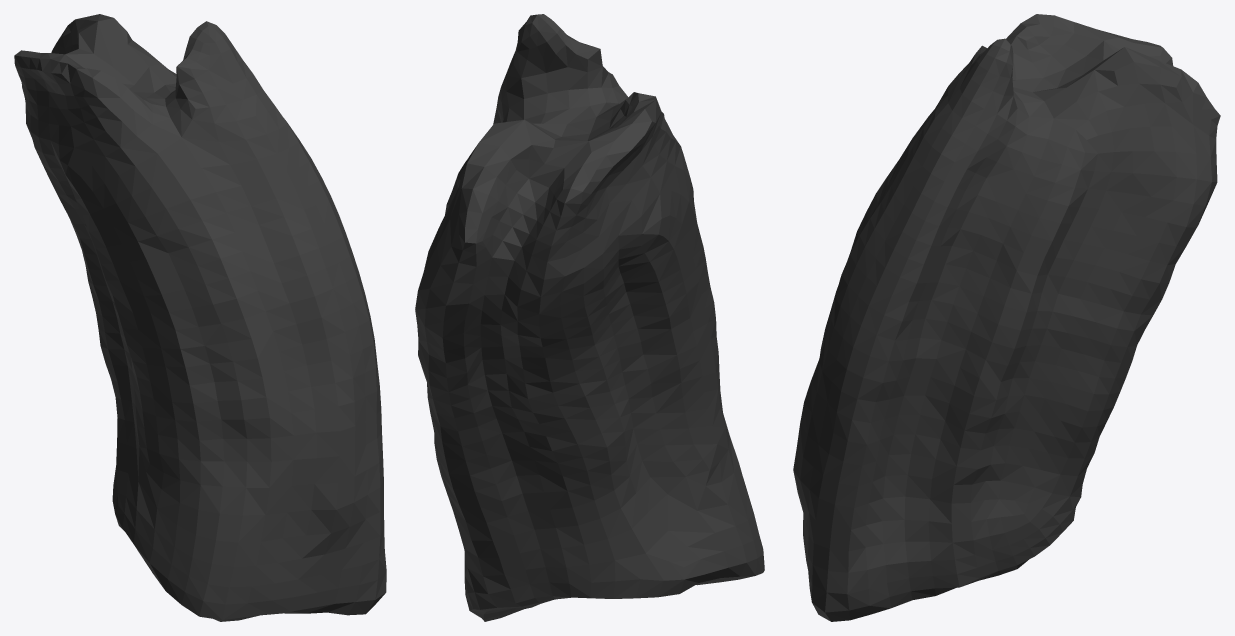
Rendered from R_max_M3_copy000.glb.
The picture shows the model from 3 angles, left to right: view 1: azimuth 30°, elevation 25°; view 2: azimuth 150°, elevation 25°; view 3: azimuth 270°, elevation 25°; orthographic projection. The views are drawn at different scales.
Parts seen in each view (by area): view 1: R_max_M3_copy000; view 2: R_max_M3_copy000; view 3: R_max_M3_copy000.
Part boxes in pixels (x1,y1,x2,y2): R_max_M3_copy000: (14,14,386,621); R_max_M3_copy000: (415,14,764,621); R_max_M3_copy000: (793,14,1220,621).
Size of the model in its own units: 0.4473 by 1.05 by 0.7468.
1 material, 1 textured.
